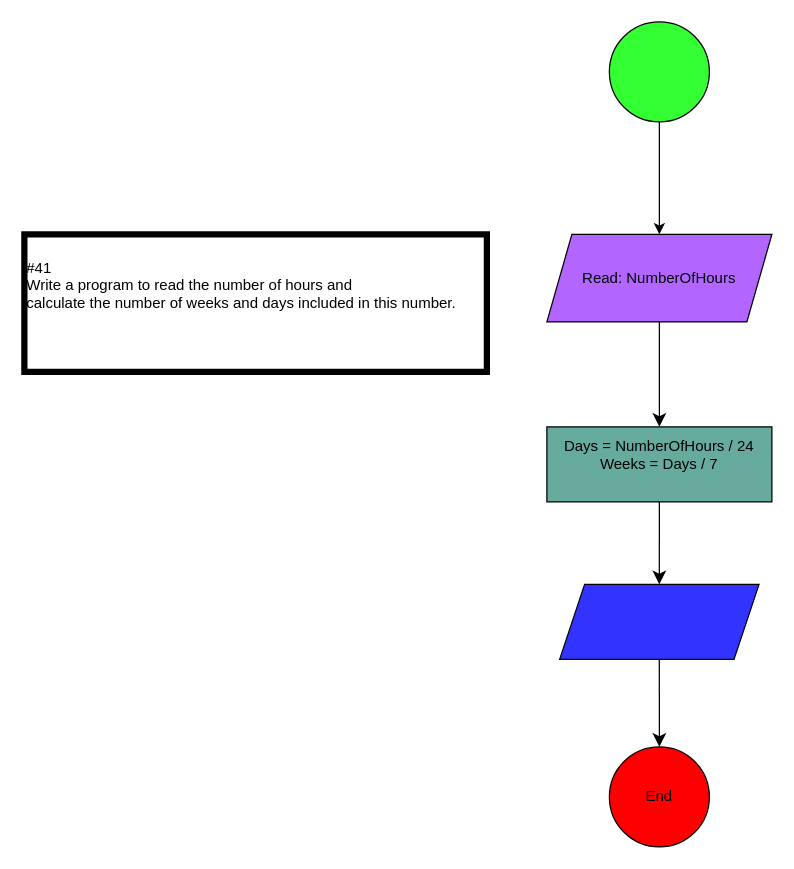
The diagram is 794 pixels wide and 869 high, and some of its shapes have lost their labels. Each missing label, with the box of its shape:
Print Weeks + "Weeks" Print Days + "Days": (558, 583, 759, 659)
Start: (608, 21, 709, 122)
